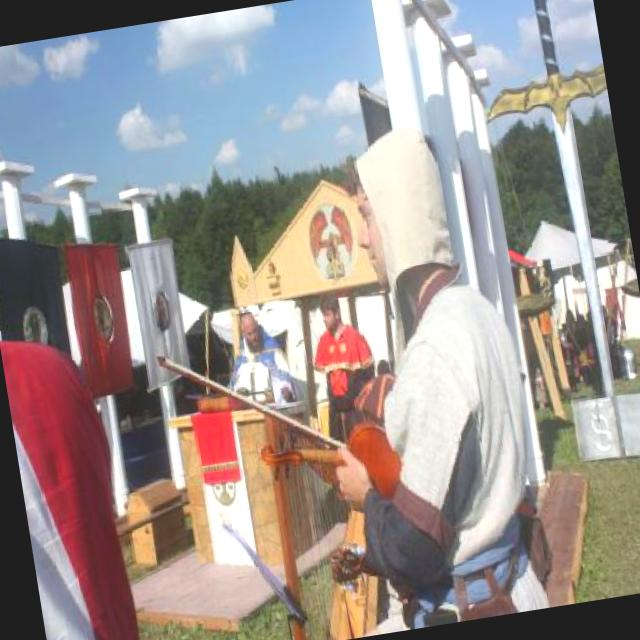Person: (286, 120, 558, 632), (0, 321, 144, 640), (300, 280, 382, 443), (216, 300, 300, 418), (558, 295, 626, 386)
